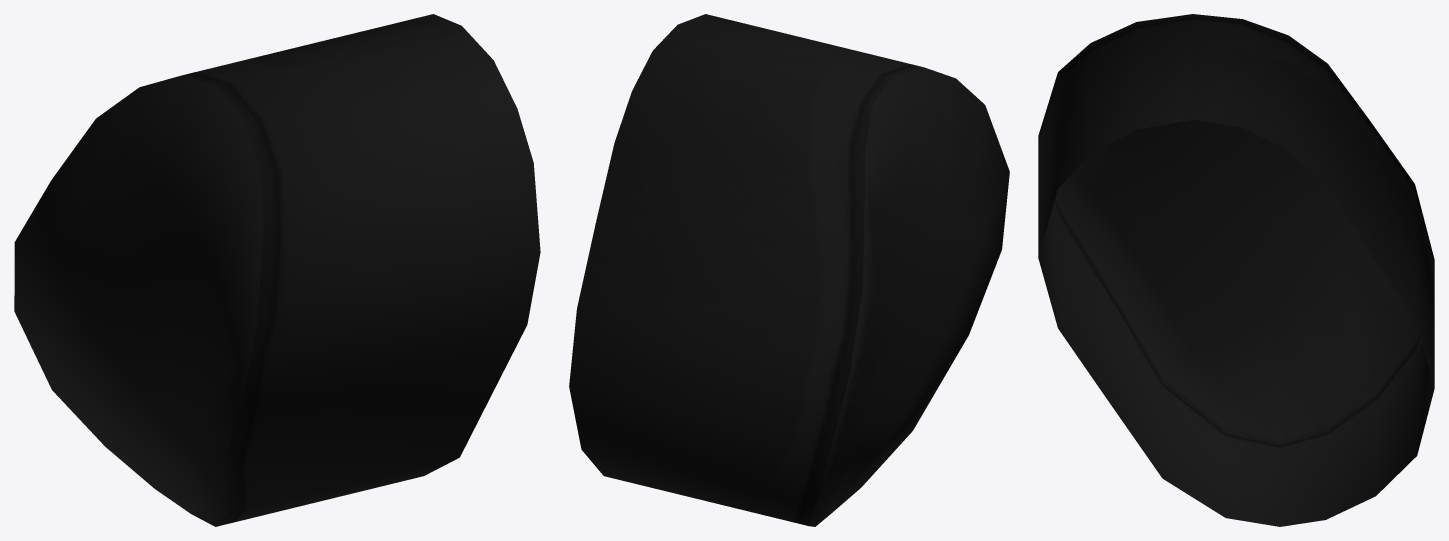
File: YVR_d1_right_grip.obj
3 views of the same model, side by side, from view 1: azimuth 30°, elevation 25°; view 2: azimuth 150°, elevation 25°; view 3: azimuth 270°, elevation 25° (orthographic). The views are drawn at different scales.
Parts seen in each view (by area): view 1: Object009; view 2: Object009; view 3: Object009.
Boxes of the visible parts, left/top/right/bottom form: Object009: left=14, top=14, right=540, bottom=526; Object009: left=569, top=14, right=1009, bottom=526; Object009: left=1038, top=14, right=1434, bottom=526.
Size of the model in its own units: 0.0151 by 0.0211 by 0.0182.
Materials: 1 (1 with a texture image).
